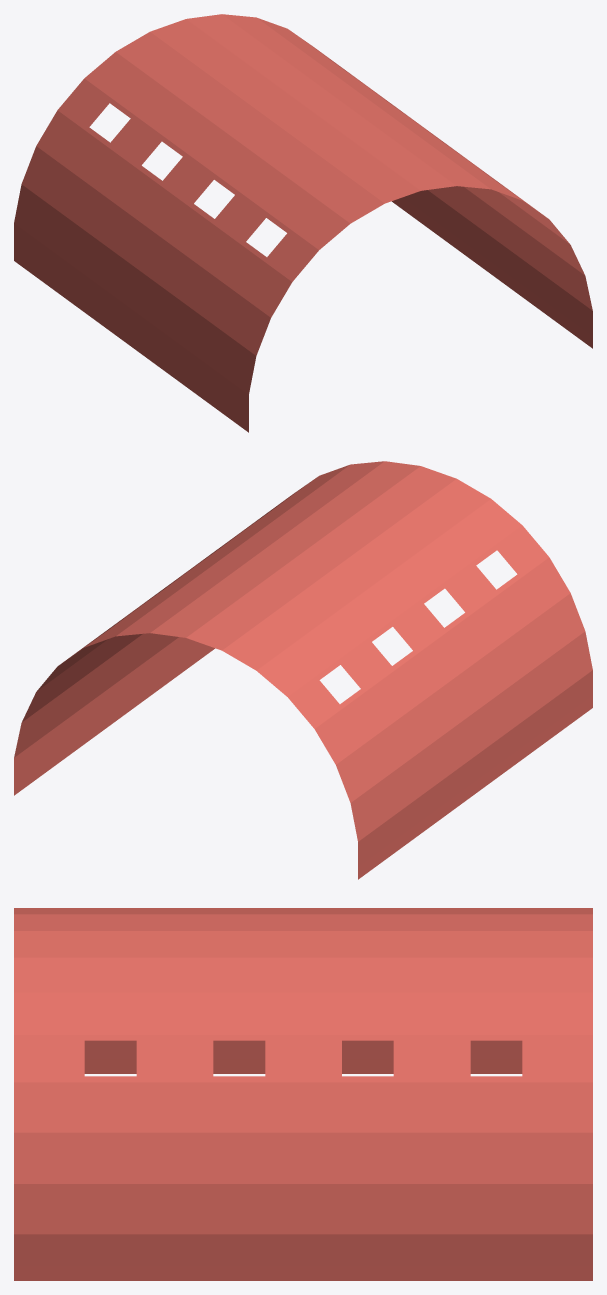
The model's file is roof_v002.fbx.
3 views of the same model, one above another, from view 1: azimuth 30°, elevation 25°; view 2: azimuth 150°, elevation 25°; view 3: azimuth 270°, elevation 25° (orthographic). The views are drawn at different scales.
Visible parts, largest first — view 1: Roof; view 2: Roof; view 3: Roof.
Boxes of the visible parts, x1=… form: Roof: x1=14, y1=14, x2=592, y2=432; Roof: x1=14, y1=461, x2=592, y2=879; Roof: x1=14, y1=908, x2=592, y2=1280.
Size of the model in its own units: 2540 by 1411 by 3005.
